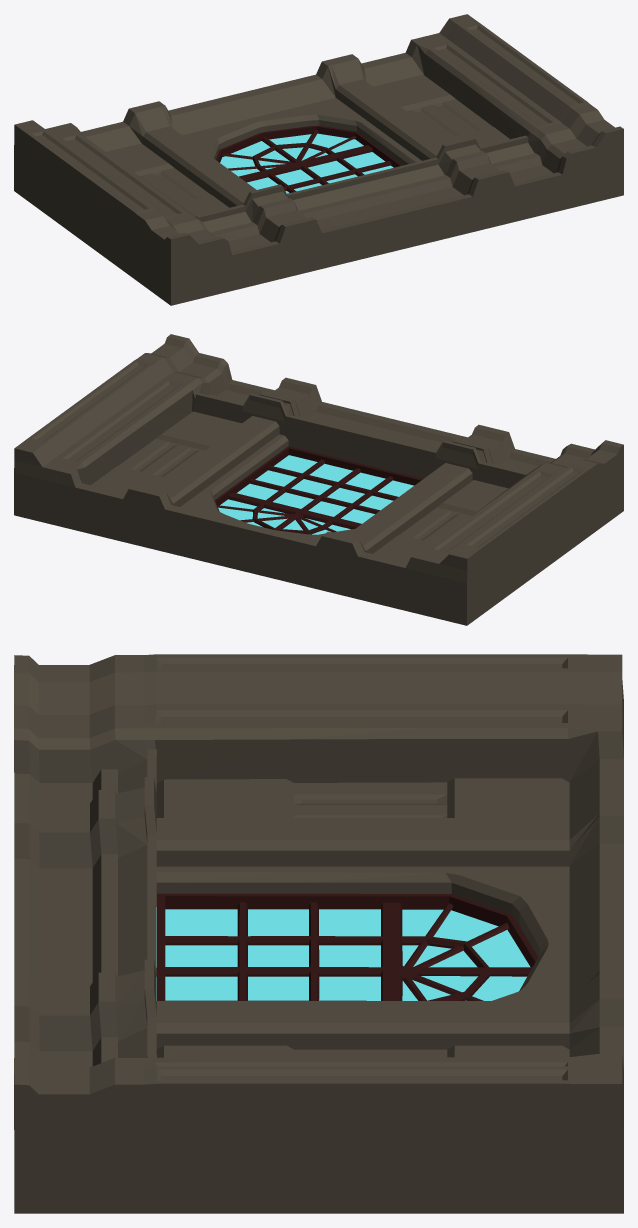
File: P_F_MonoW.fbx
3 renders of one model, top to bottom at view 1: azimuth 30°, elevation 25°; view 2: azimuth 150°, elevation 25°; view 3: azimuth 270°, elevation 25°, orthographic. The views are drawn at different scales.
Visible parts, largest first — view 1: P_F_MonoW; view 2: P_F_MonoW; view 3: P_F_MonoW.
Boxes of the visible parts, bbox=[...] form: P_F_MonoW: bbox=[14, 14, 623, 305]; P_F_MonoW: bbox=[14, 334, 623, 625]; P_F_MonoW: bbox=[14, 654, 623, 1213].
Bounding box in the file's own units: 500 × 70.5 × 300.
